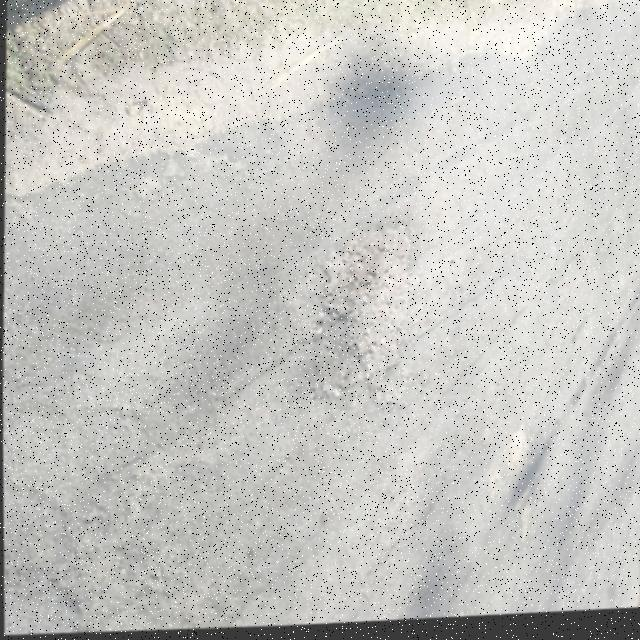pothole: (291, 210, 434, 430)
